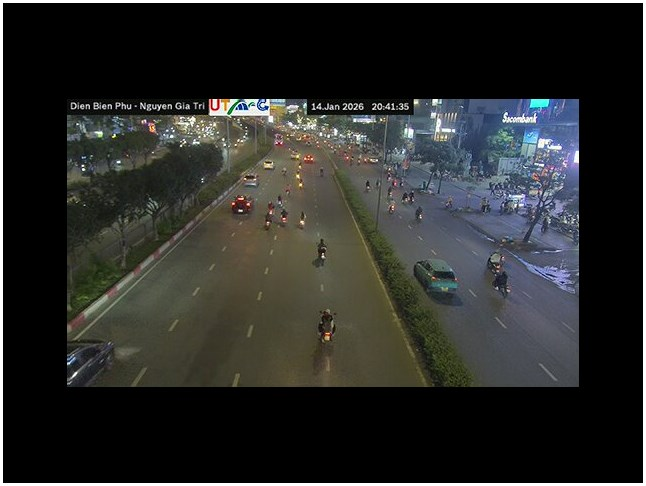car: (66, 340, 115, 385), (413, 258, 459, 296), (231, 196, 253, 215), (241, 175, 259, 186)
motorbike: (490, 271, 514, 298), (318, 309, 337, 342), (486, 248, 505, 273), (312, 239, 330, 262), (402, 188, 416, 205), (413, 206, 427, 221), (297, 209, 307, 229), (279, 206, 289, 225), (274, 191, 284, 208), (262, 212, 273, 227), (266, 200, 275, 216), (317, 165, 327, 178), (387, 200, 396, 214), (363, 179, 373, 191), (280, 164, 288, 176), (387, 186, 394, 198)
